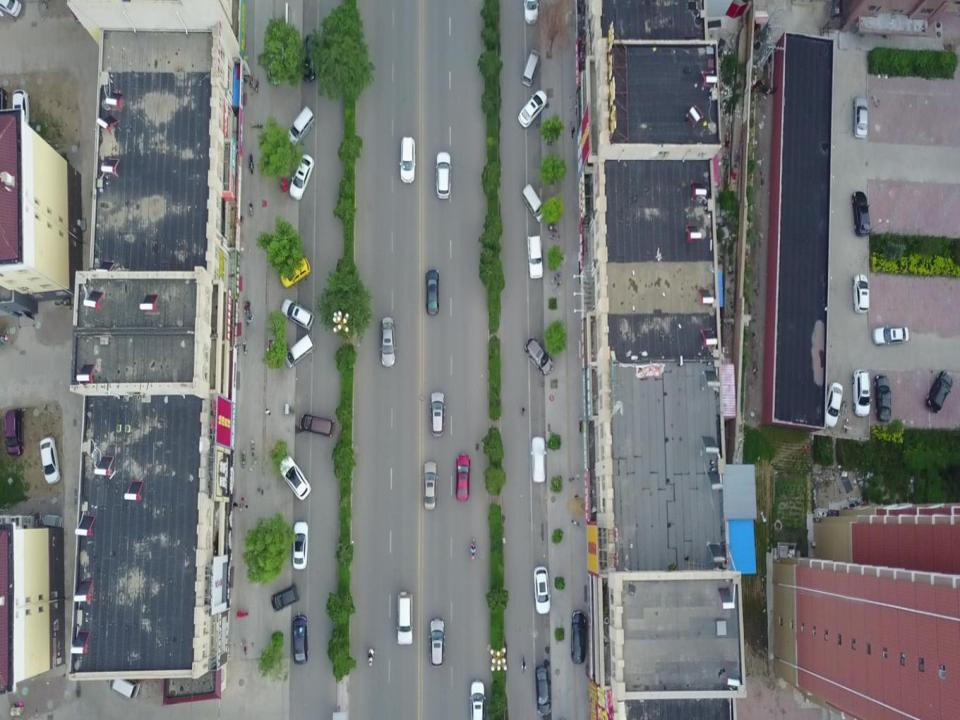car: (280, 456, 311, 502), (280, 298, 314, 330), (822, 383, 845, 430), (926, 371, 952, 412), (290, 156, 314, 200), (525, 340, 554, 376), (518, 91, 547, 127), (38, 440, 60, 486), (280, 257, 312, 288), (532, 566, 551, 616), (851, 369, 870, 418), (874, 373, 893, 422), (10, 89, 30, 133), (571, 610, 586, 667), (434, 152, 451, 202), (535, 666, 552, 716), (380, 315, 396, 368), (853, 190, 871, 236), (467, 677, 486, 720), (531, 436, 548, 484), (270, 584, 298, 613), (429, 390, 445, 440), (430, 618, 445, 670), (422, 462, 438, 510), (293, 522, 308, 572), (293, 616, 308, 666), (300, 415, 334, 437), (400, 138, 415, 185), (302, 34, 316, 84), (456, 454, 470, 502), (873, 326, 910, 344), (528, 236, 543, 280), (853, 273, 869, 314), (854, 94, 868, 140), (426, 269, 439, 315), (0, 0, 23, 17), (548, 200, 560, 232), (525, 0, 539, 25)
van: (287, 105, 315, 143), (395, 591, 414, 647), (3, 410, 25, 458), (107, 672, 141, 700), (522, 185, 546, 222), (284, 339, 316, 366), (522, 48, 539, 87)
